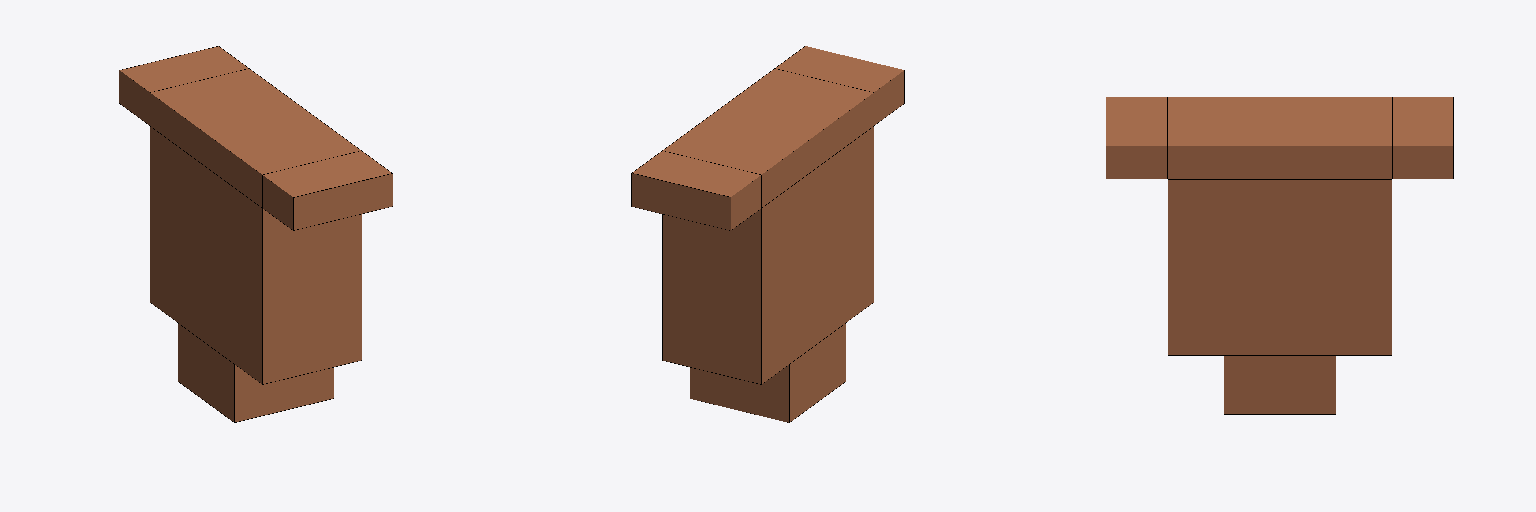
The picture shows the model from 3 angles: view 1: azimuth 30°, elevation 25°; view 2: azimuth 150°, elevation 25°; view 3: azimuth 270°, elevation 25°; orthographic projection.
Parts seen in each view (by area): view 1: body_Cube.002; view 2: body_Cube.002; view 3: body_Cube.002.
Boxes of the visible parts, x1=… form: body_Cube.002: x1=119, y1=46, x2=392, y2=422; body_Cube.002: x1=631, y1=46, x2=904, y2=422; body_Cube.002: x1=1106, y1=97, x2=1453, y2=414.
Size of the model in its own units: 0.187 by 0.4835 by 0.5667.
1 materials, 1 textured.